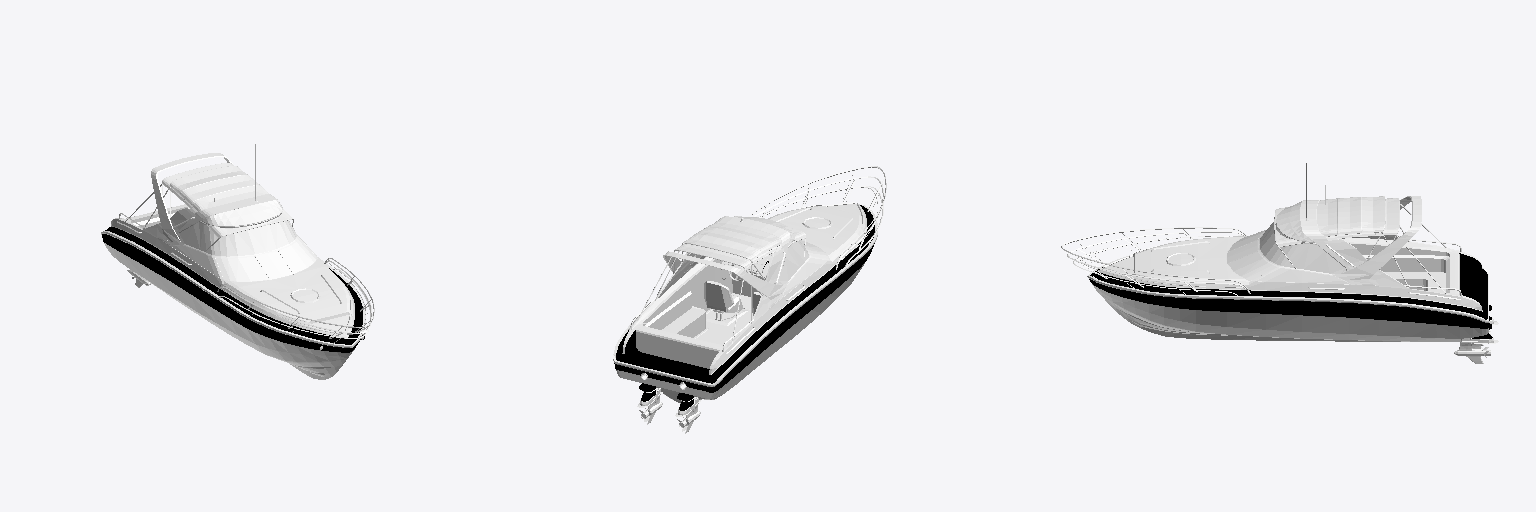
The picture shows the model from 3 angles: view 1: azimuth 30°, elevation 25°; view 2: azimuth 150°, elevation 25°; view 3: azimuth 270°, elevation 25°; orthographic projection.
Parts seen in each view (by area): view 1: Hull, Windows, Deck, Roof, Steel; view 2: Hull, Deck, Interior, Steel, Roof, Windows, Floor; view 3: Hull, Deck, Steel, Windows, Roof, Interior.
Part boxes in pixels (x1,y1,x2,y2): Hull: (101, 153, 365, 379); Windows: (173, 216, 317, 300); Deck: (102, 227, 364, 352); Roof: (162, 163, 292, 236); Steel: (111, 144, 374, 349); Hull: (613, 204, 877, 403); Deck: (614, 205, 874, 410); Interior: (636, 258, 767, 347); Steel: (622, 166, 886, 433); Roof: (677, 216, 805, 267); Windows: (688, 218, 829, 296); Floor: (696, 309, 753, 344); Hull: (1087, 196, 1488, 341); Deck: (1089, 253, 1492, 338); Steel: (1061, 163, 1498, 363); Windows: (1168, 222, 1347, 283); Roof: (1275, 196, 1398, 246); Interior: (1348, 242, 1454, 294).
Bounding box in the file's own units: 64.23 × 102 × 204.
Materials: 10 (2 with a texture image).